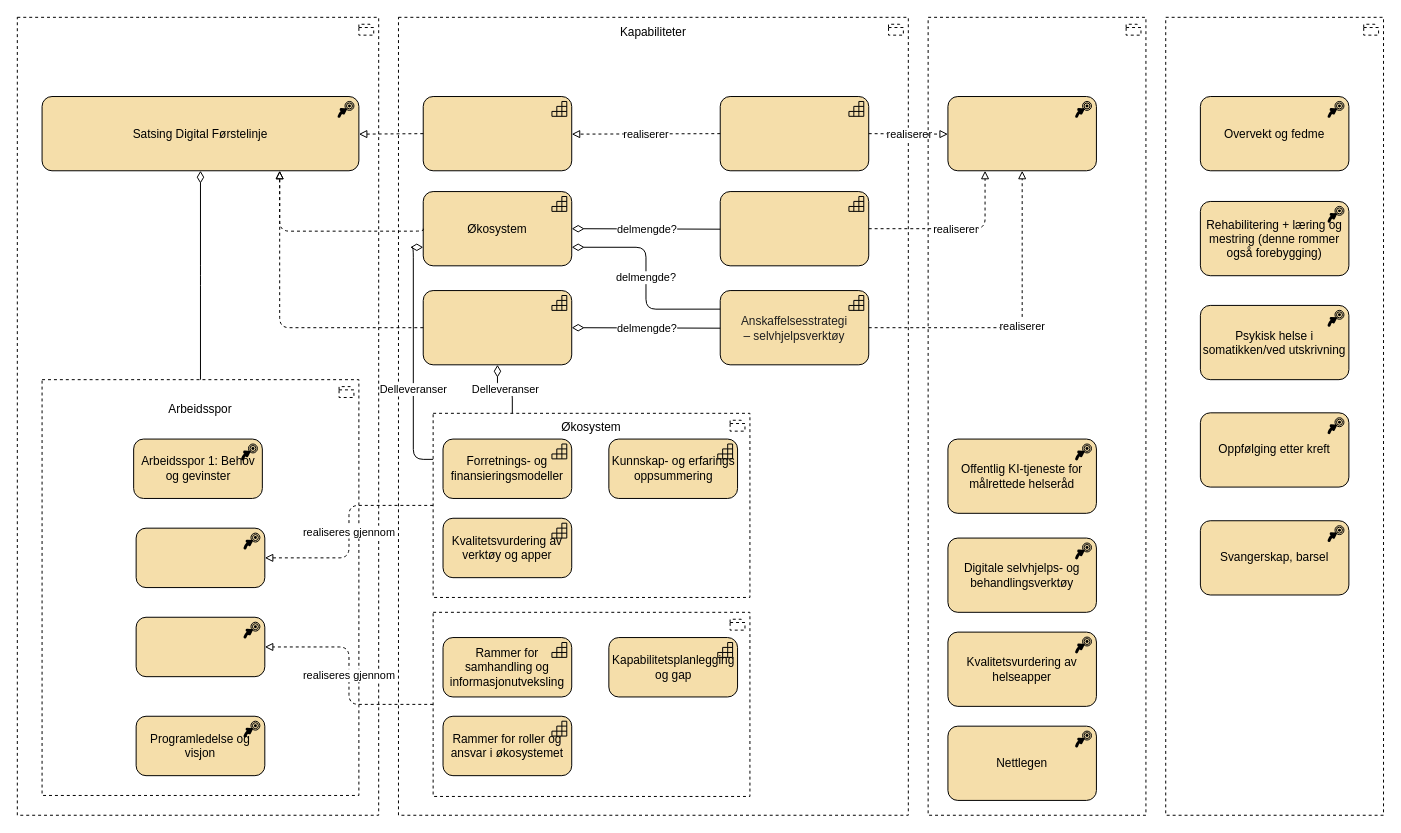
This 1401x833 diagram has some shape labels left out. Each missing label, with the box of its shape:
Arbeidsspor 3: Arkitektur: (135, 616, 265, 677)
Arbeidssport 2: Økosystem: (135, 527, 265, 588)
Digital veiviser inn til helsetjenestene: (422, 96, 572, 171)
Digitale løsninger for psykisk helse/rus: (947, 96, 1096, 171)
Digitale selvhjelps og behandlingsverktøy: (422, 290, 572, 365)
Kommunikasjon digitale verktøy: (719, 191, 869, 266)
Målarkitektur: (432, 611, 750, 796)
Nasjonal veiviser konsept 12c: (719, 96, 869, 171)
Prosjekter nevnt i Tildelingsbrev: (927, 16, 1146, 815)
Prosjekter tiltak som kan innlemmes i porteføljen senere: (1165, 16, 1384, 815)
Tiltak digital førstelinje: (16, 16, 379, 815)
